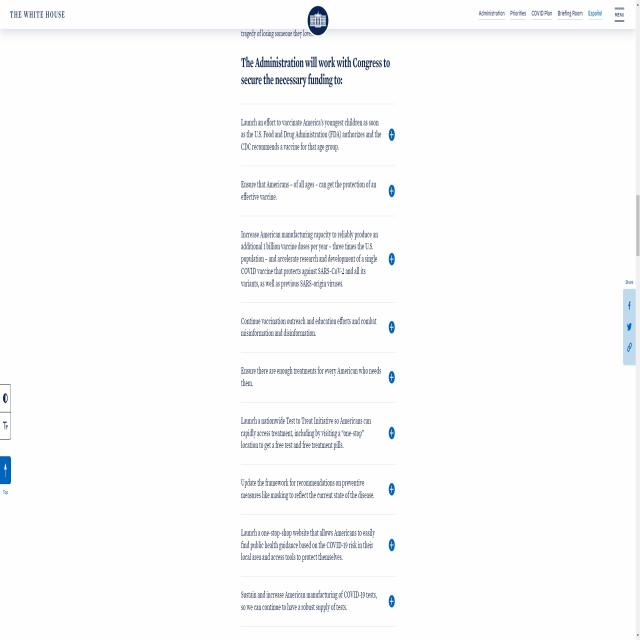menu-bar: (475, 0, 628, 27)
side-panel: (622, 274, 636, 368)
